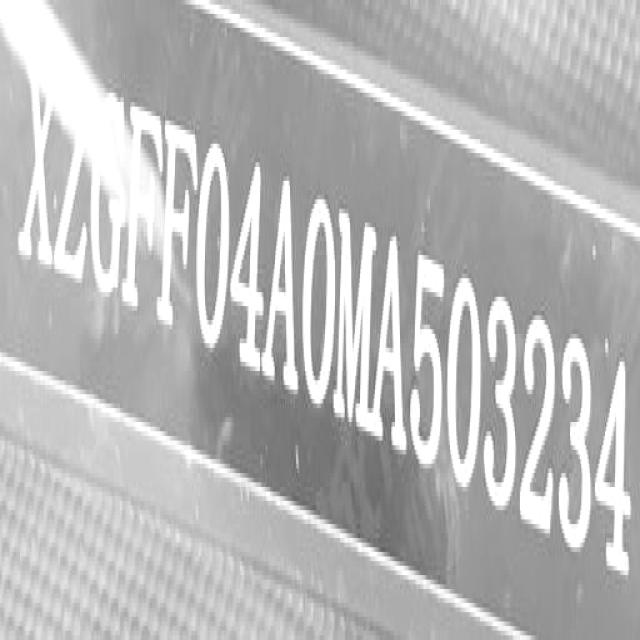0: (303, 184, 338, 416), (446, 264, 481, 495), (199, 134, 232, 366)
2: (522, 308, 556, 545)
3: (558, 328, 593, 560), (486, 291, 518, 521)
4: (600, 345, 635, 577), (232, 146, 264, 375)
5: (412, 238, 445, 475)
A: (374, 224, 408, 461), (268, 168, 299, 404)
F: (123, 77, 161, 332), (162, 109, 195, 345)
G: (92, 85, 126, 302)
M: (335, 205, 375, 441)
X: (19, 74, 54, 276)
Z: (54, 66, 86, 292)
